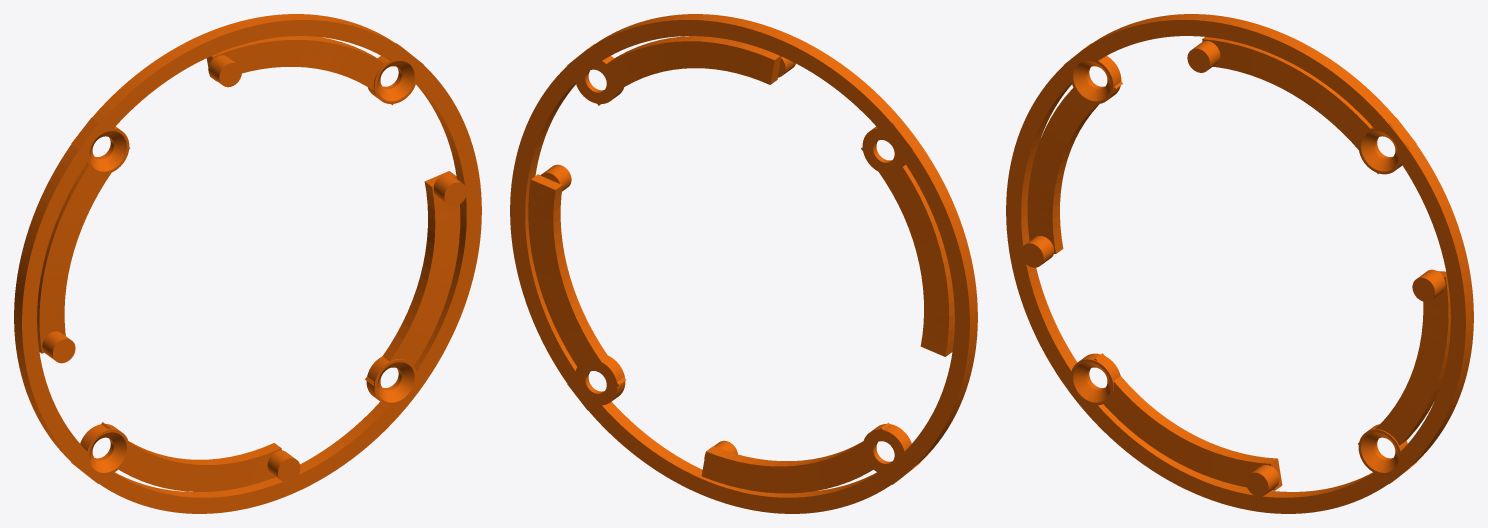
Rendered from Flexure_Retention_System.obj.
3 views of the same model, side by side, from view 1: azimuth 30°, elevation 25°; view 2: azimuth 150°, elevation 25°; view 3: azimuth 330°, elevation 25° (orthographic).
Visible parts, largest first — view 1: Flexure_Retention_System; view 2: Flexure_Retention_System; view 3: Flexure_Retention_System.
Boxes of the visible parts, x1,y1,x2,y2 form: Flexure_Retention_System: (14,14,481,513); Flexure_Retention_System: (510,14,977,513); Flexure_Retention_System: (1006,14,1473,513).
Bounding box in the file's own units: 36.6 × 36.59 × 2.46.
